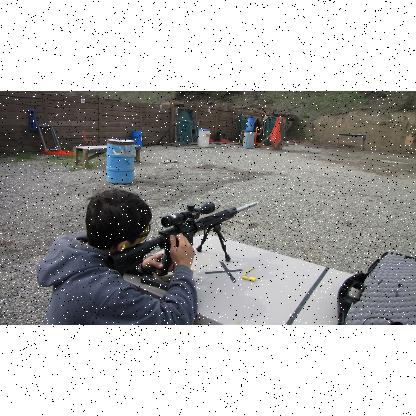gun: (110, 200, 256, 258)
